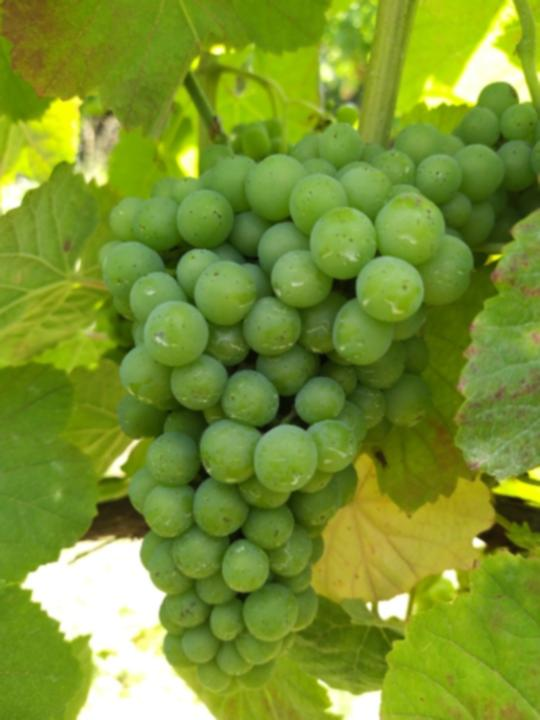grape: (90, 151, 482, 698)
